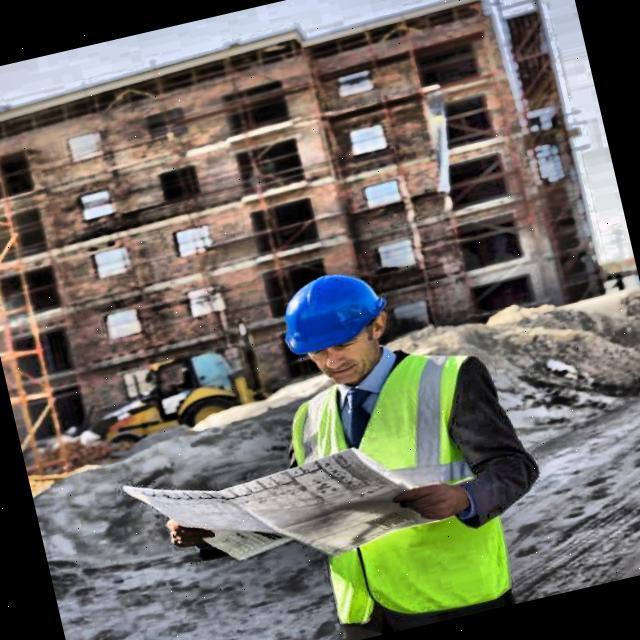helmet: (263, 248, 412, 400)
